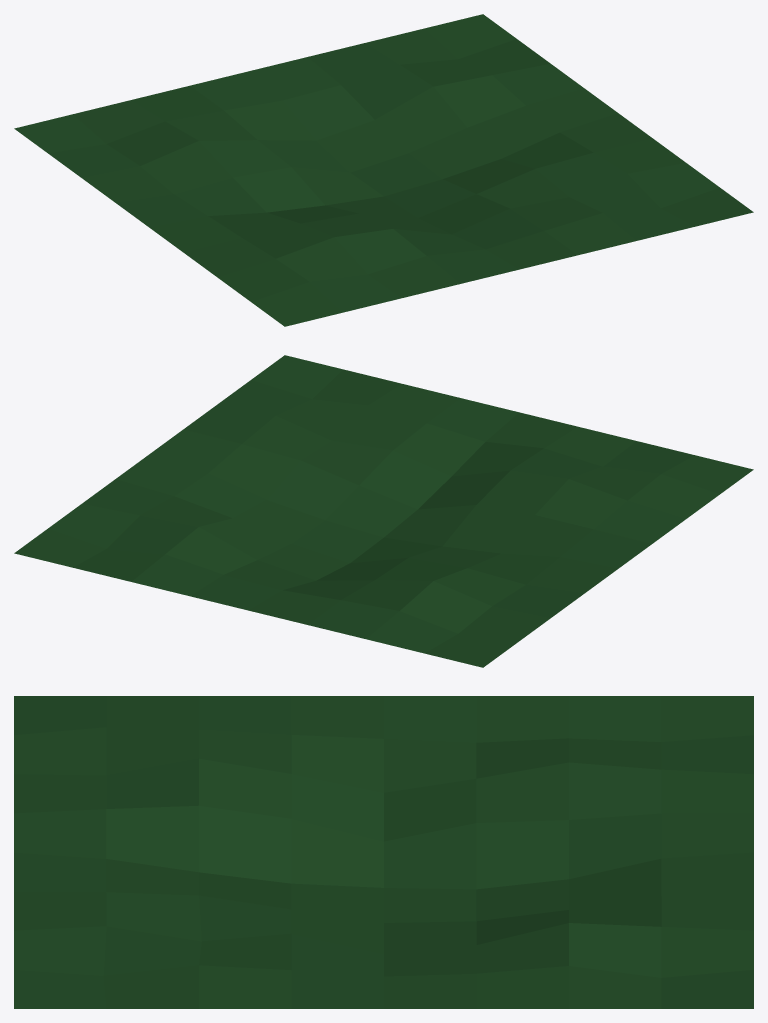
The model's file is Terrain_22_Dark_Green.fbx.
3 renders of one model, top to bottom at view 1: azimuth 30°, elevation 25°; view 2: azimuth 150°, elevation 25°; view 3: azimuth 270°, elevation 25°, orthographic. The views are drawn at different scales.
Visible parts, largest first — view 1: Terrain_22_Dark_Green; view 2: Terrain_22_Dark_Green; view 3: Terrain_22_Dark_Green.
Part boxes in pixels (x1=…): Terrain_22_Dark_Green: x1=14, y1=14, x2=753, y2=326; Terrain_22_Dark_Green: x1=14, y1=355, x2=753, y2=667; Terrain_22_Dark_Green: x1=14, y1=696, x2=753, y2=1008.
Size of the model in its own units: 10000 by 784 by 10000.
